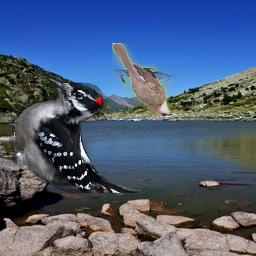Cuckoo: (113, 44, 180, 117)
Woodpecker: (10, 77, 141, 193)
